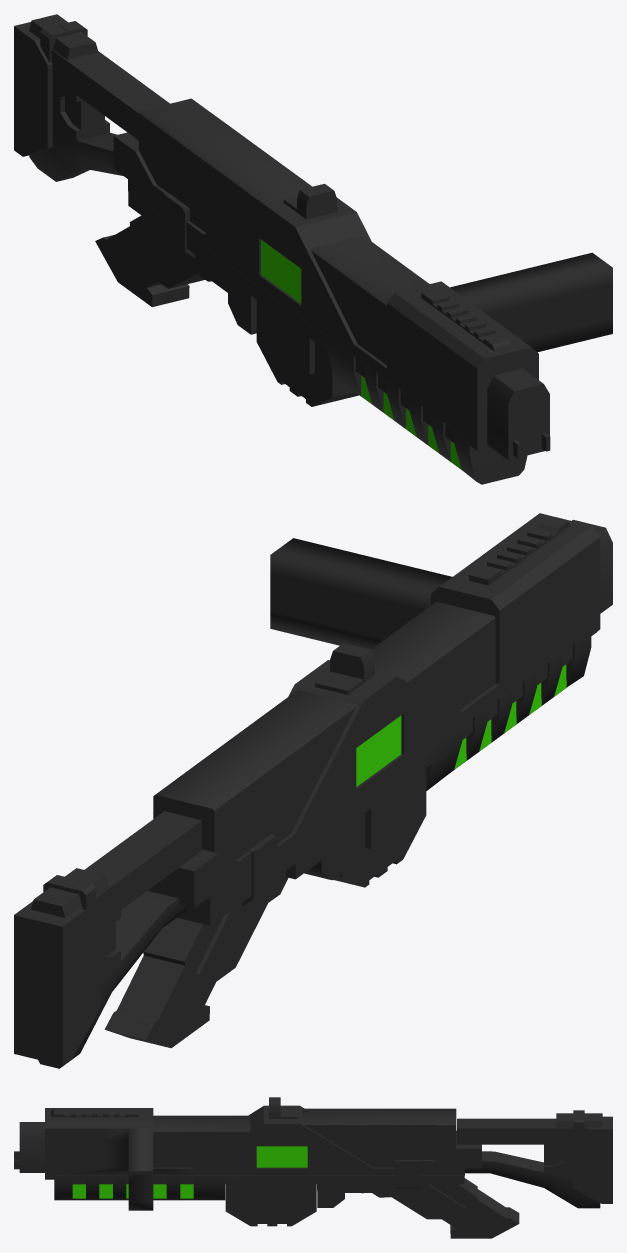
File: arm.fbx
The picture shows the model from 3 angles, top to bottom: view 1: azimuth 30°, elevation 25°; view 2: azimuth 150°, elevation 25°; view 3: azimuth 270°, elevation 25°; orthographic projection. The views are drawn at different scales.
Parts seen in each view (by area): view 1: ARMESTArlesfou; view 2: ARMESTArlesfou; view 3: ARMESTArlesfou.
Boxes of the visible parts, <box> form: ARMESTArlesfou: <box>14,14,612,484</box>; ARMESTArlesfou: <box>14,513,612,1068</box>; ARMESTArlesfou: <box>14,1097,612,1238</box>.
Size of the model in its own units: 26.43 by 26.82 by 110.
